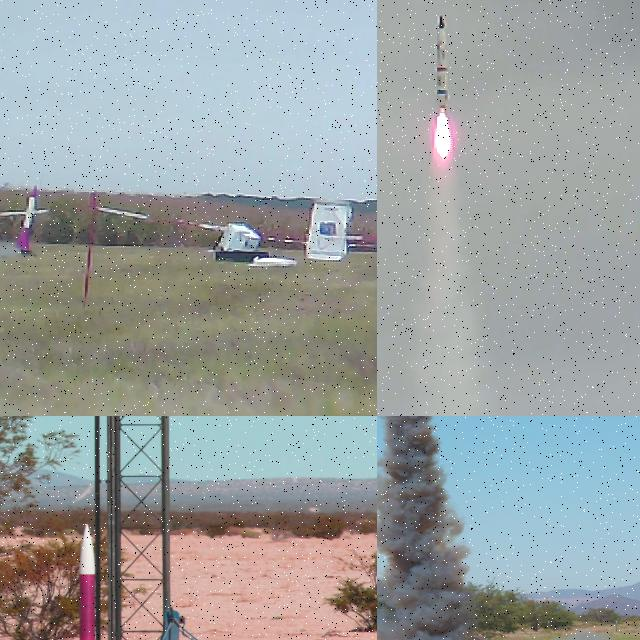Rocket: (62, 522, 102, 640), (13, 183, 37, 250), (435, 14, 451, 113)
